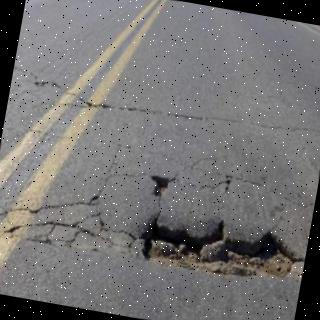pothole: (140, 214, 301, 278)
